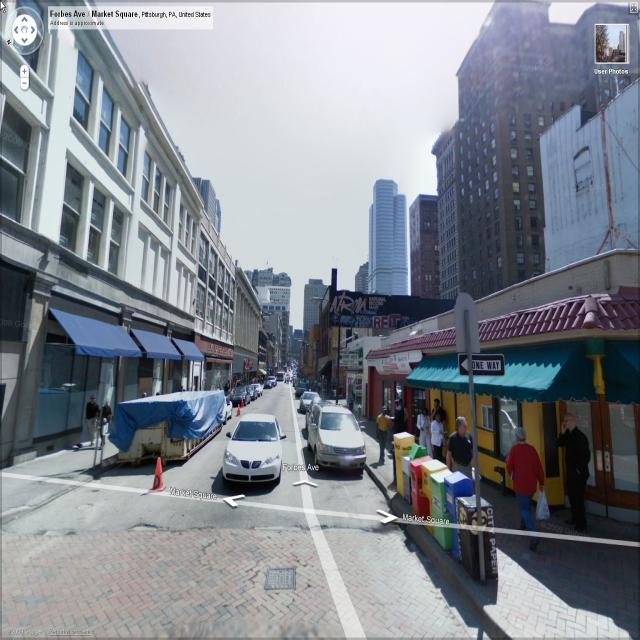b_1: (432, 261, 636, 474), (1, 62, 125, 306), (467, 1, 557, 286), (124, 120, 202, 324), (548, 84, 640, 244), (434, 126, 472, 312), (368, 173, 408, 314), (198, 229, 232, 359), (406, 200, 446, 309), (232, 283, 272, 383), (200, 178, 230, 228), (347, 262, 371, 309)
